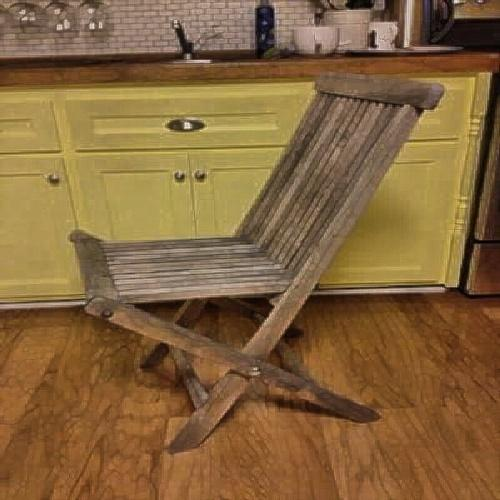chair: (91, 76, 420, 433)
